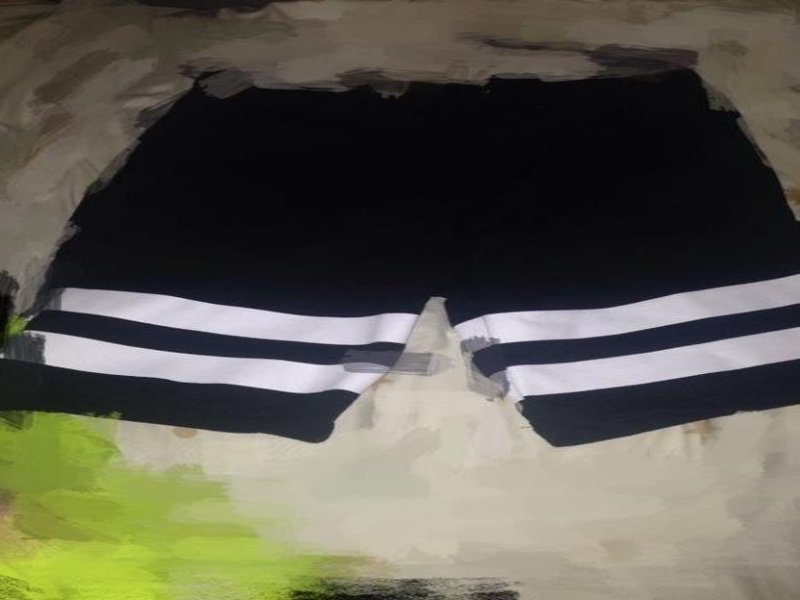shorts: (2, 63, 798, 456)
